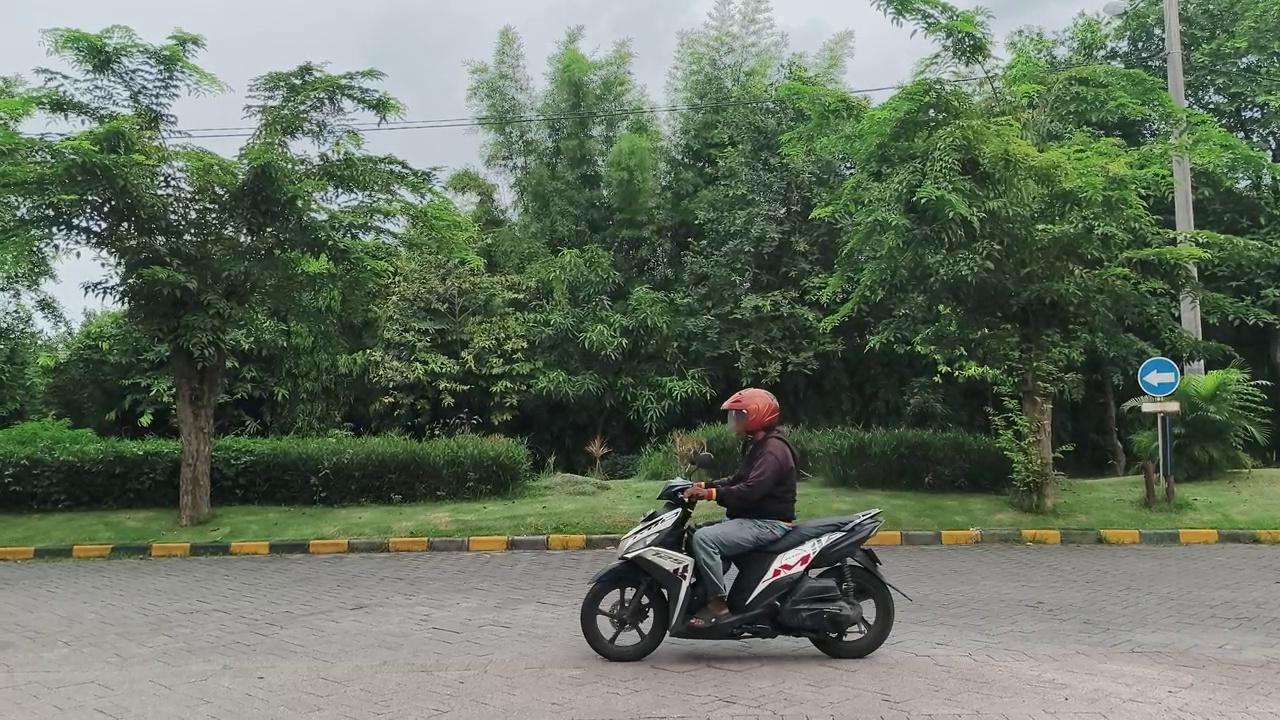Helmet: (684, 388, 795, 626)
Motor: (581, 477, 909, 661)
